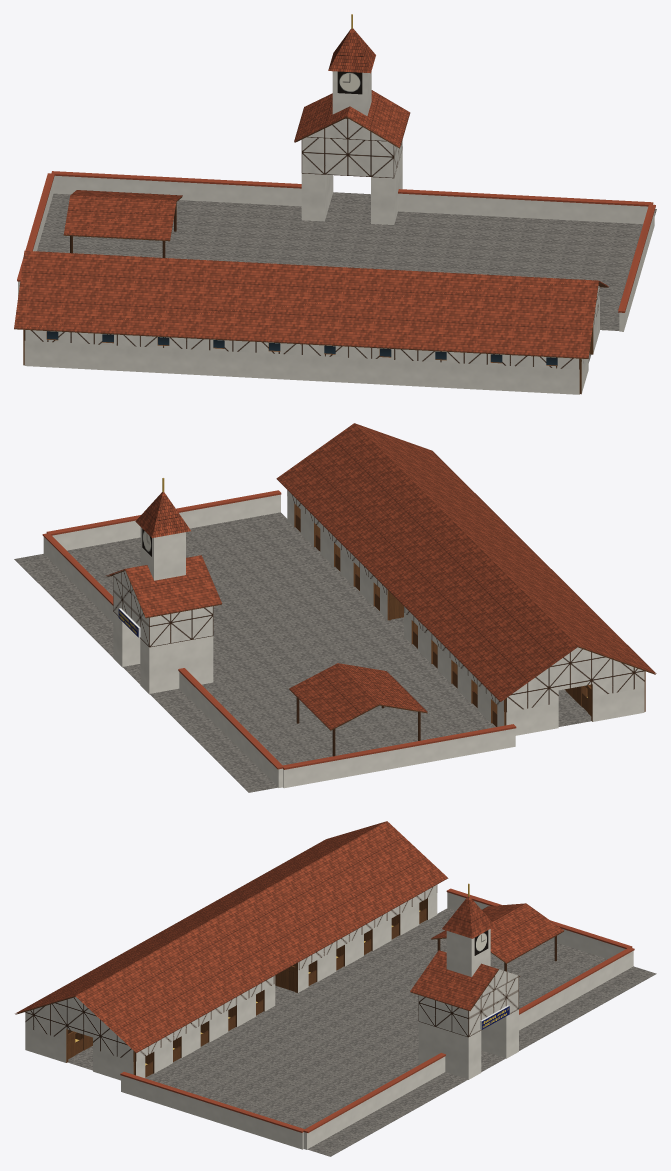
The model's file is QL_PoliceStable.fbx.
3 views of the same model, one above another, from view 1: azimuth 30°, elevation 25°; view 2: azimuth 150°, elevation 25°; view 3: azimuth 270°, elevation 25° (orthographic). The views are drawn at different scales.
Visible parts, largest first — view 1: Stable_Barn_Roof, Stable_Yard, Stable_Barn_Walls, Stable_Yard_Walls, Stable_Gatehouse, Stable_HayShed, Stable_ClockTower; view 2: Stable_Yard, Stable_Barn_Roof, Stable_Yard_Walls, Stable_Gatehouse, Stable_Barn_Walls, Stable_HayShed, Stable_ClockTower, Stable_StallWalls, Stable_Floors; view 3: Stable_Yard, Stable_Barn_Roof, Stable_Yard_Walls, Stable_Barn_Walls, Stable_Gatehouse, Stable_HayShed, Stable_ClockTower, Stable_StallWalls, Stable_Floors.
Part boxes in pixels (bbox=[...]): Stable_Barn_Roof: bbox=[14, 250, 608, 358]; Stable_Yard: bbox=[37, 192, 656, 330]; Stable_Barn_Walls: bbox=[23, 287, 599, 394]; Stable_Yard_Walls: bbox=[17, 171, 655, 331]; Stable_Gatehouse: bbox=[294, 90, 410, 224]; Stable_HayShed: bbox=[63, 190, 182, 257]; Stable_ClockTower: bbox=[328, 14, 375, 115]; Stable_Yard: bbox=[14, 512, 495, 792]; Stable_Barn_Roof: bbox=[276, 423, 656, 701]; Stable_Yard_Walls: bbox=[42, 490, 516, 788]; Stable_Gatehouse: bbox=[105, 555, 222, 694]; Stable_Barn_Walls: bbox=[287, 490, 645, 735]; Stable_HayShed: bbox=[289, 663, 427, 756]; Stable_ClockTower: bbox=[135, 478, 190, 580]; Stable_StallWalls: bbox=[317, 526, 591, 715]; Stable_Floors: bbox=[390, 617, 591, 726]; Stable_Yard: bbox=[145, 908, 656, 1156]; Stable_Barn_Roof: bbox=[15, 821, 448, 1052]; Stable_Yard_Walls: bbox=[120, 888, 634, 1149]; Stable_Barn_Walls: bbox=[25, 885, 437, 1080]; Stable_Gatehouse: bbox=[410, 950, 520, 1079]; Stable_HayShed: bbox=[431, 903, 564, 971]; Stable_ClockTower: bbox=[442, 883, 495, 976]; Stable_StallWalls: bbox=[68, 915, 397, 1063]; Stable_Floors: bbox=[67, 910, 420, 1070].
Size of the model in its own units: 63.99 by 18.4 by 61.63.
